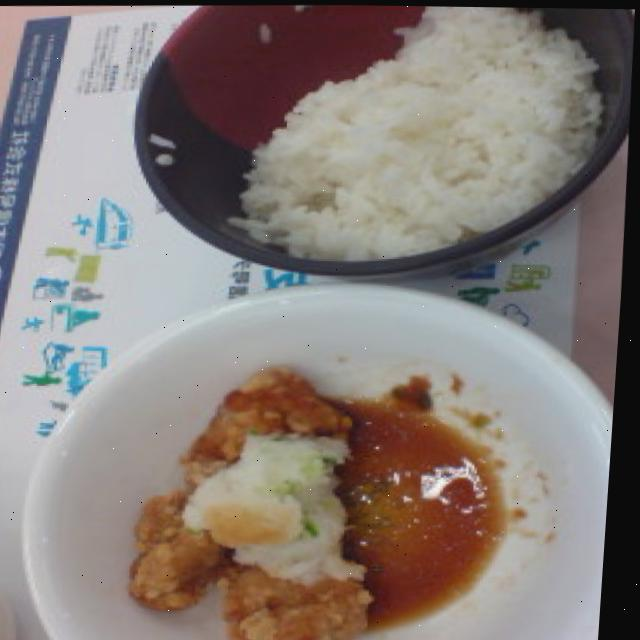米饭主食: (131, 2, 639, 274)
鸡肉料理 含炸鸡: (20, 295, 625, 640)
